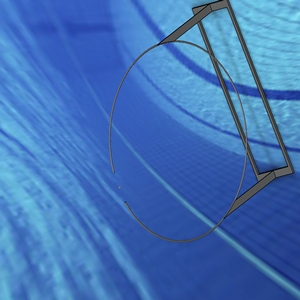circle: (106, 0, 290, 243)
